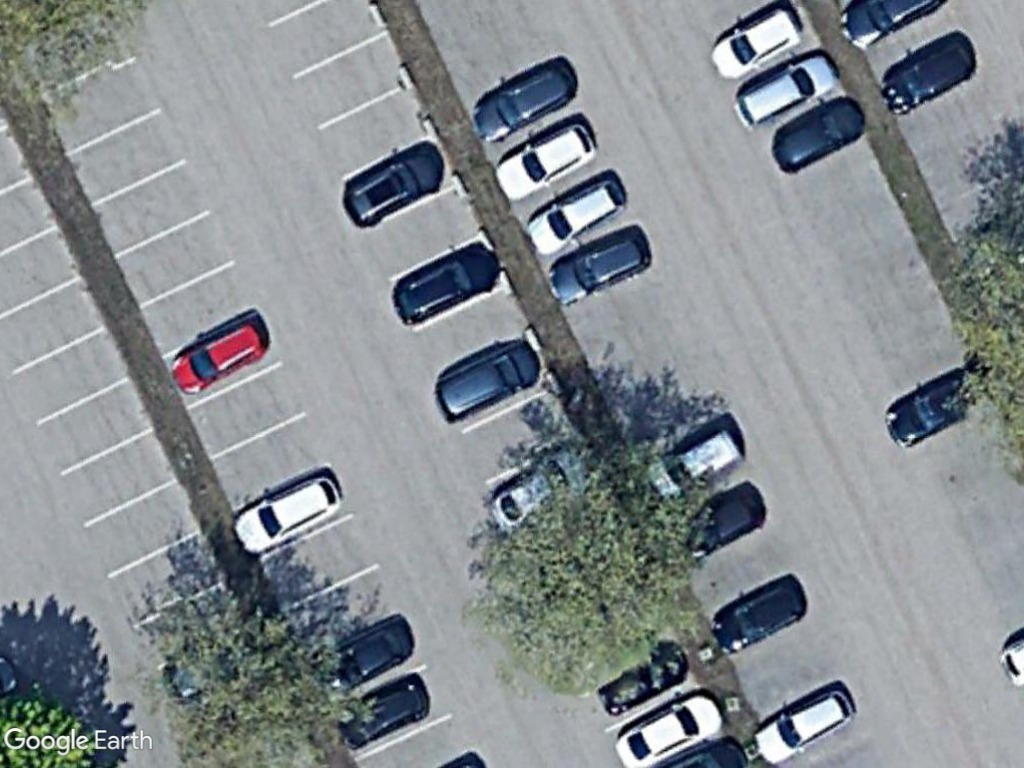car: (468, 55, 581, 146), (489, 115, 599, 207), (387, 239, 497, 328), (428, 338, 540, 424), (704, 572, 812, 661), (733, 47, 844, 133), (339, 141, 445, 230), (232, 471, 344, 555), (523, 172, 628, 258), (612, 690, 725, 768), (767, 91, 866, 180), (547, 228, 656, 307), (749, 686, 856, 766), (167, 316, 270, 399), (707, 6, 811, 86), (879, 37, 976, 118)
